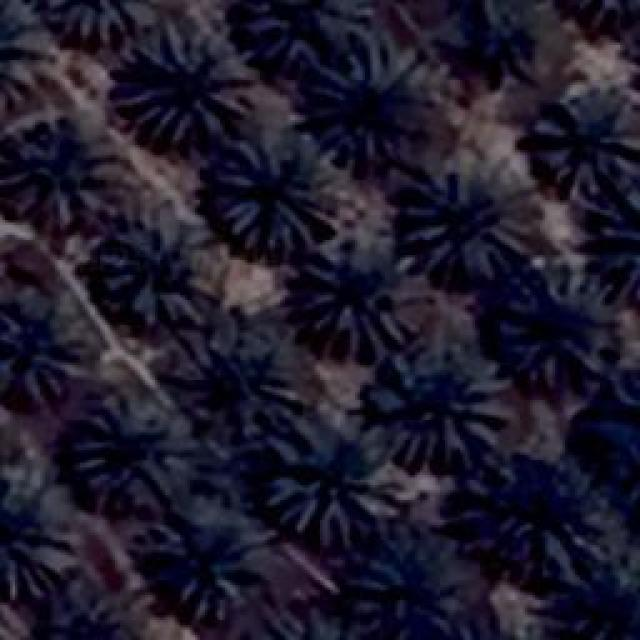PalmTree: (95, 21, 482, 92), (265, 412, 413, 546), (112, 24, 252, 148), (210, 132, 340, 258), (0, 120, 125, 250), (402, 157, 530, 280), (175, 320, 303, 440), (468, 458, 588, 578), (498, 262, 612, 382), (100, 210, 218, 322), (300, 238, 410, 352), (351, 535, 471, 635), (70, 398, 175, 512), (378, 354, 492, 456), (530, 90, 635, 190), (159, 492, 239, 608), (326, 74, 436, 158), (234, 0, 358, 68), (2, 315, 82, 403), (595, 372, 640, 506), (0, 483, 52, 598), (0, 0, 51, 116), (45, 584, 142, 640), (555, 572, 640, 632), (599, 182, 640, 304), (253, 611, 374, 640), (434, 618, 542, 640), (560, 0, 640, 25), (436, 624, 542, 640)
